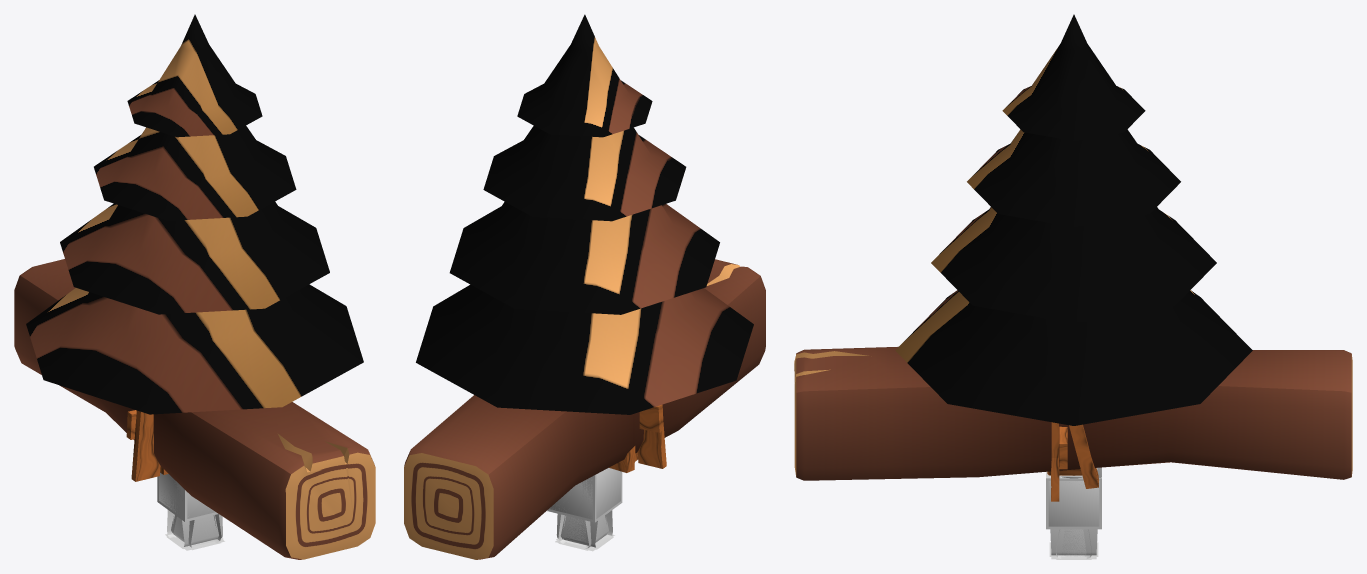
The model's file is Tiles.fbx.
The picture shows the model from 3 angles, left to right: view 1: azimuth 30°, elevation 25°; view 2: azimuth 150°, elevation 25°; view 3: azimuth 270°, elevation 25°; orthographic projection. The views are drawn at different scales.
Parts seen in each view (by area): view 1: Tree, Log, WallFence, SmoothTile, Tile, Tile_-YX; view 2: Tree, Log, SmoothTile, WallFence, Tile_+XY, Tile, Tile_+Y-X; view 3: Tree, Log, SmoothTile, WallFence, Tile_+Y-X, Tile_-Y+X.
Boxes of the visible parts, x1,y1,x2,y2 form: Tree: [26, 14, 363, 414]; Log: [14, 259, 375, 559]; WallFence: [126, 410, 168, 481]; SmoothTile: [159, 472, 215, 518]; Tile: [157, 476, 218, 521]; Tile_-YX: [171, 514, 222, 544]; Tree: [416, 14, 753, 414]; Log: [404, 259, 765, 559]; SmoothTile: [549, 468, 620, 519]; WallFence: [609, 404, 666, 472]; Tile_+XY: [556, 514, 608, 542]; Tile: [547, 471, 622, 522]; Tile_+Y-X: [566, 517, 614, 547]; Tree: [895, 14, 1252, 425]; Log: [794, 346, 1352, 480]; SmoothTile: [1048, 476, 1099, 526]; WallFence: [1051, 422, 1098, 501]; Tile_+Y-X: [1050, 529, 1086, 555]; Tile_-Y+X: [1062, 529, 1097, 555].
Size of the model in its own units: 1273 by 1987 by 2104.
